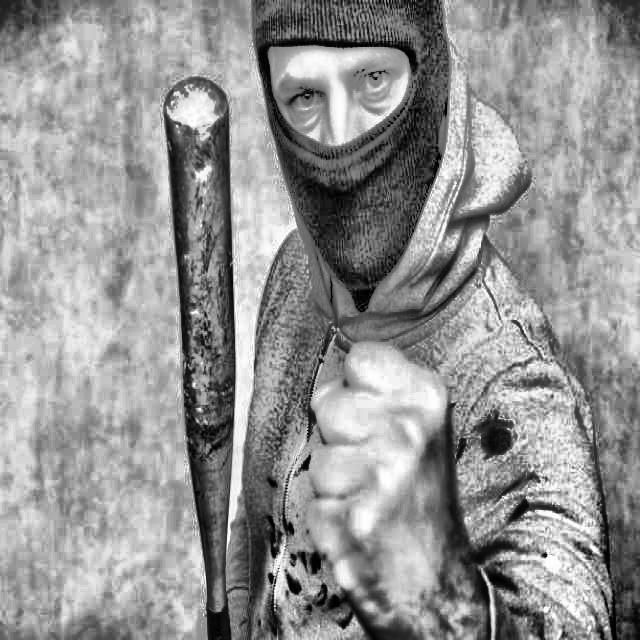tongkat pemukul: (158, 67, 240, 639)
